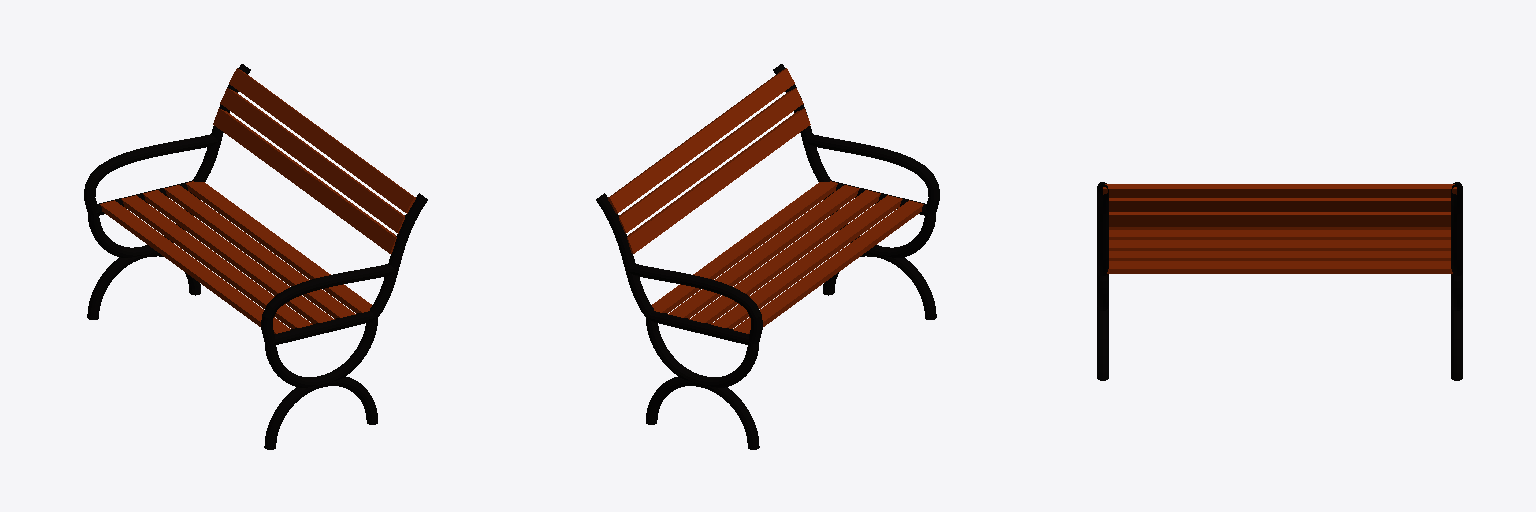
File: BancoJardim.obj
3 views of the same model, side by side, from view 1: azimuth 30°, elevation 25°; view 2: azimuth 150°, elevation 25°; view 3: azimuth 270°, elevation 25° (orthographic).
Visible parts, largest first — view 1: BancoJardim; view 2: BancoJardim; view 3: BancoJardim.
Boxes of the visible parts, box(x1,y1,x2,y2) form: BancoJardim: box(84, 64, 427, 449); BancoJardim: box(596, 64, 939, 449); BancoJardim: box(1097, 182, 1462, 380).
Bounding box in the file's own units: 3.24 × 4.06 × 6.2.